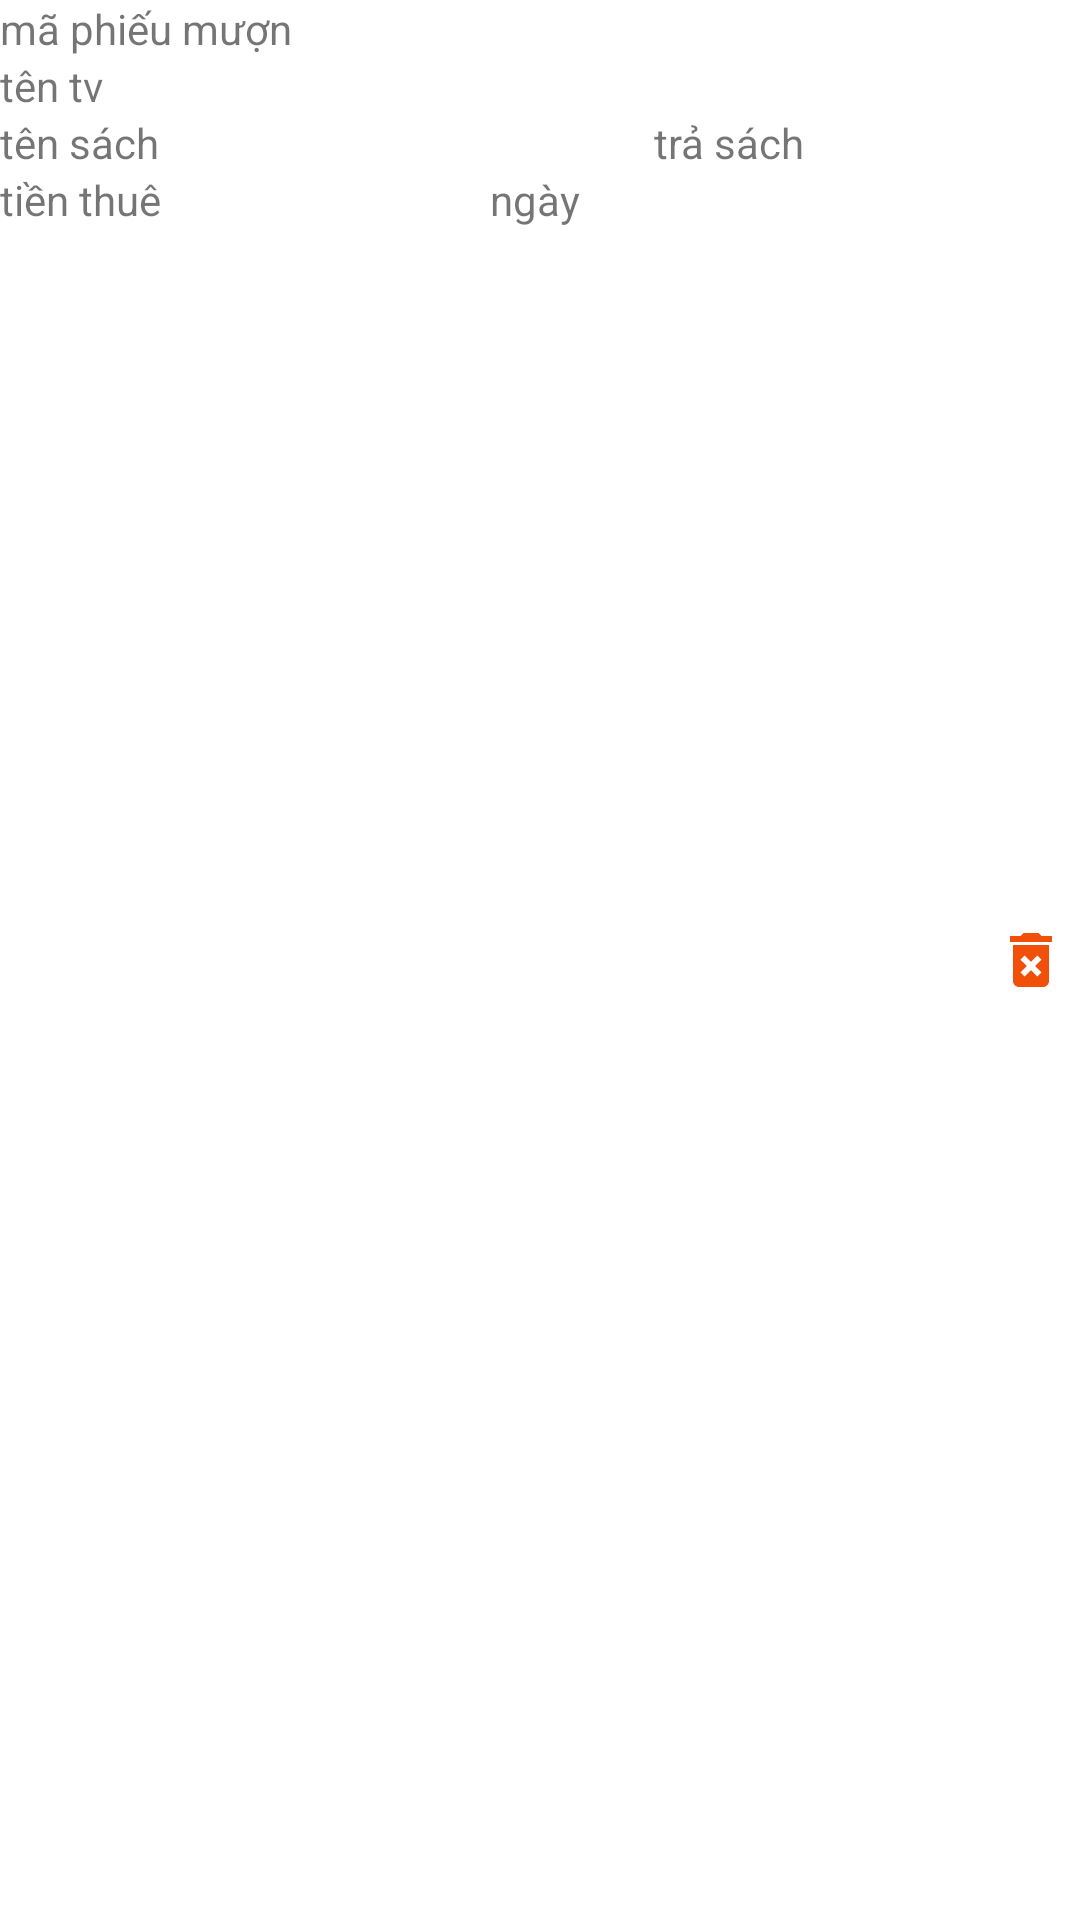

Icon bounding boxes for this 1080 x 1920 phone screenshot, format bbox=[x1, y1, x2, y2]:
delete forever: bbox=[1010, 933, 1052, 987]
